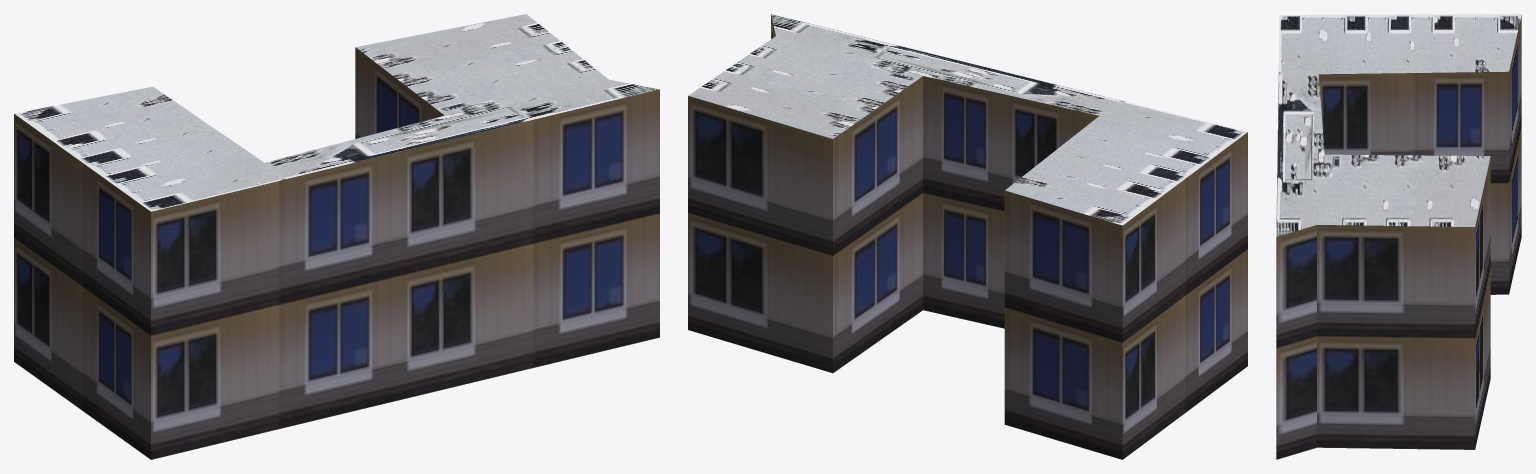
Rendered from ResTex__2643.fbx.
3 views of the same model, side by side, from view 1: azimuth 30°, elevation 25°; view 2: azimuth 150°, elevation 25°; view 3: azimuth 270°, elevation 25° (orthographic). The views are drawn at different scales.
Parts seen in each view (by area): view 1: CityEngineMaterial_5_m, CityEngineMaterial_8_m; view 2: CityEngineMaterial_5_m, CityEngineMaterial_8_m; view 3: CityEngineMaterial_5_m, CityEngineMaterial_8_m.
Part boxes in pixels (bbox=[...]): CityEngineMaterial_5_m: bbox=[14, 47, 659, 459]; CityEngineMaterial_8_m: bbox=[14, 14, 659, 211]; CityEngineMaterial_5_m: bbox=[688, 14, 1247, 459]; CityEngineMaterial_8_m: bbox=[688, 14, 1247, 225]; CityEngineMaterial_5_m: bbox=[1276, 15, 1521, 459]; CityEngineMaterial_8_m: bbox=[1276, 14, 1521, 236].
Bounding box in the file's own units: 12.88 × 6 × 5.99.
2 materials, 2 textured.
